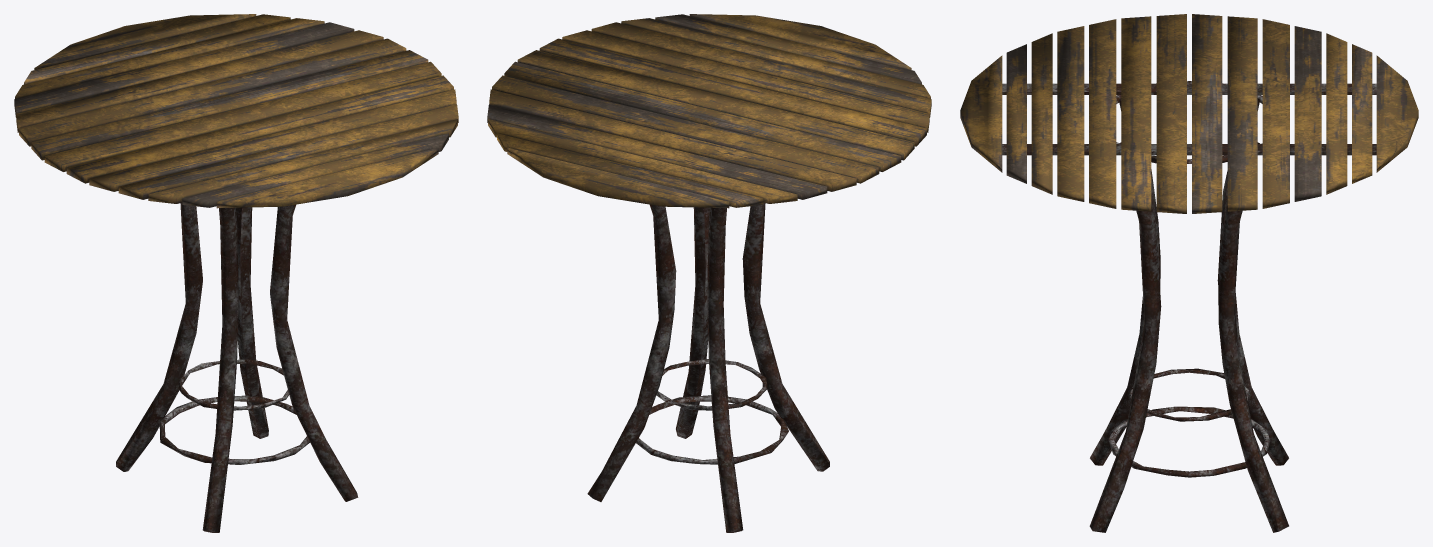
The model's file is tableoutside.obj.
The picture shows the model from 3 angles, left to right: view 1: azimuth 30°, elevation 25°; view 2: azimuth 150°, elevation 25°; view 3: azimuth 270°, elevation 25°; orthographic projection. The views are drawn at different scales.
Visible parts, largest first — view 1: tableoutside; view 2: tableoutside; view 3: tableoutside.
Part boxes in pixels (x1,y1,x2,y2): tableoutside: (14, 14, 458, 532); tableoutside: (487, 14, 931, 532); tableoutside: (960, 14, 1418, 532).
Bounding box in the file's own units: 98.77 × 92.38 × 98.95.
Materials: 1 (1 with a texture image).
